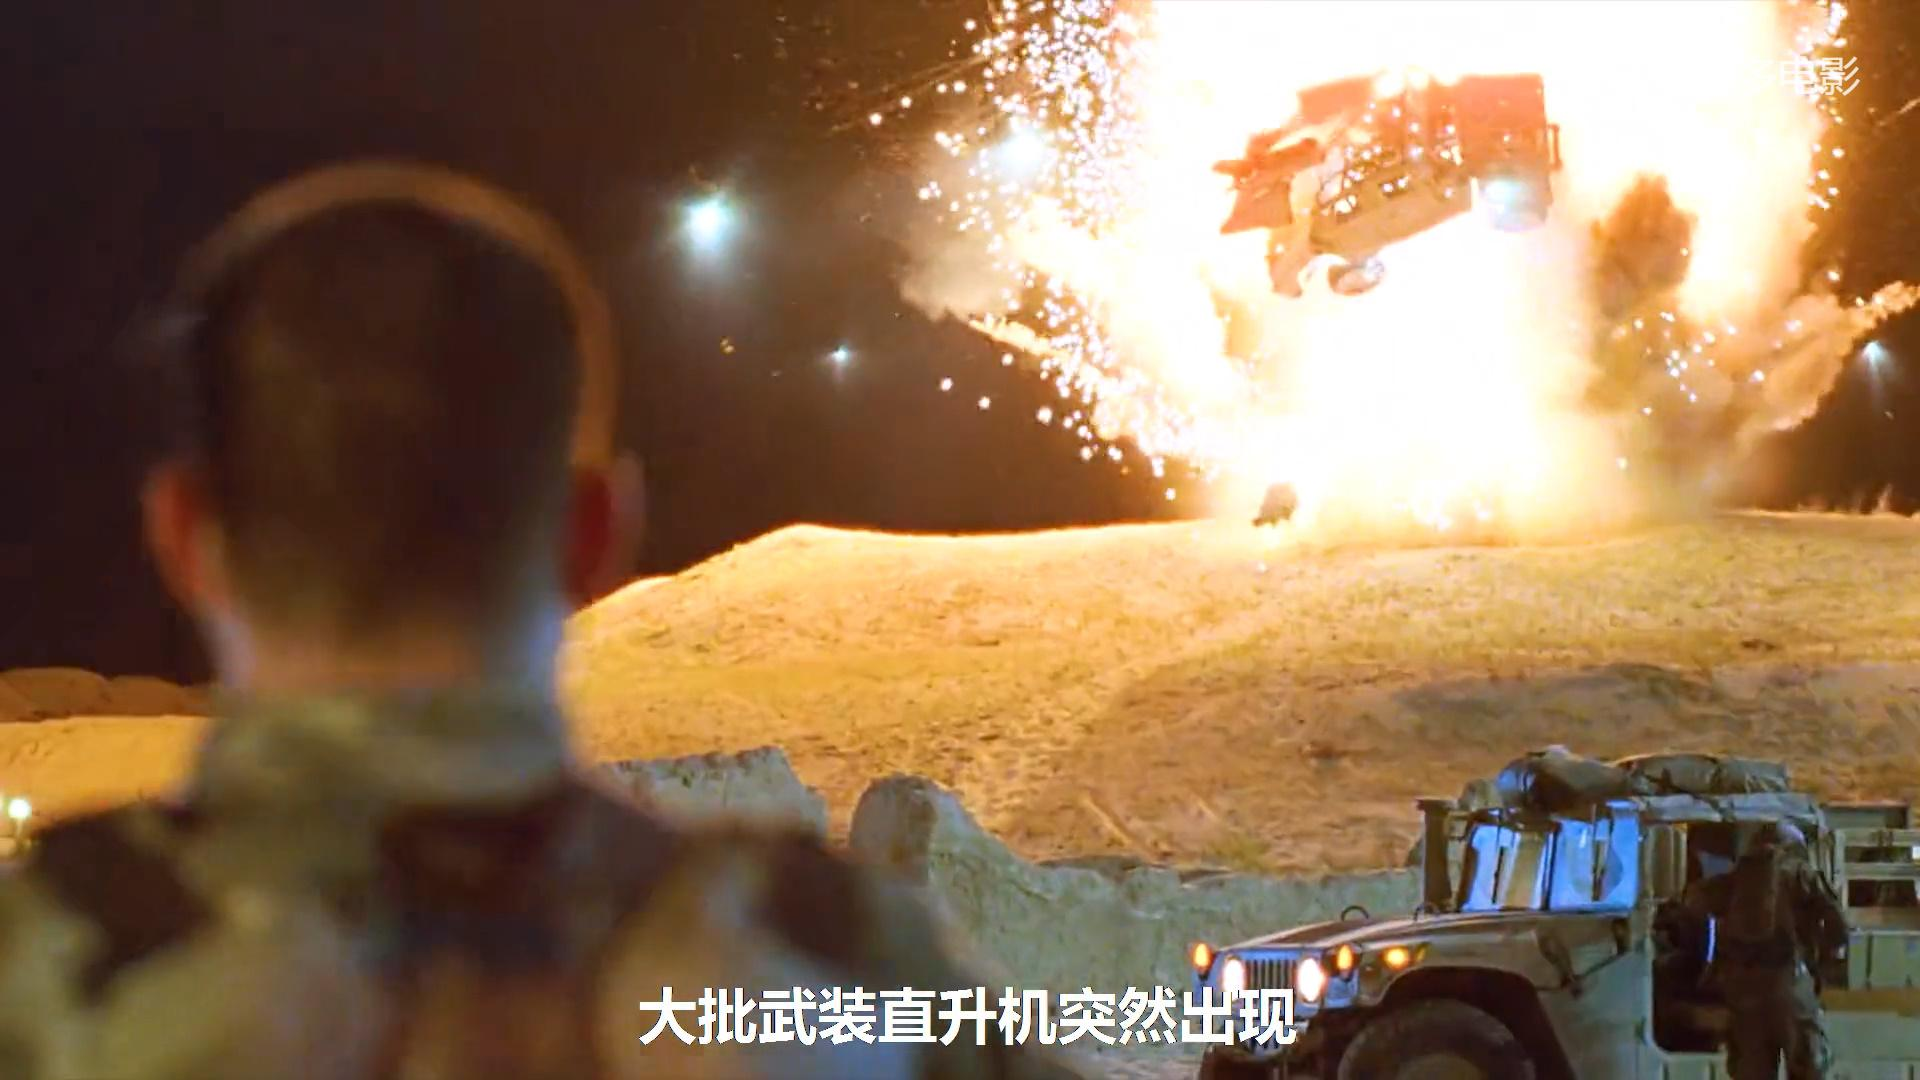fire: (905, 0, 1892, 596)
